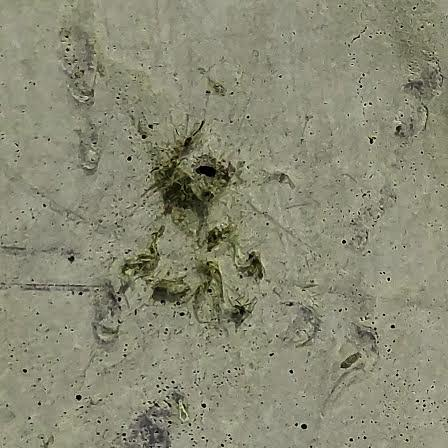spalling: (191, 159, 221, 181)
